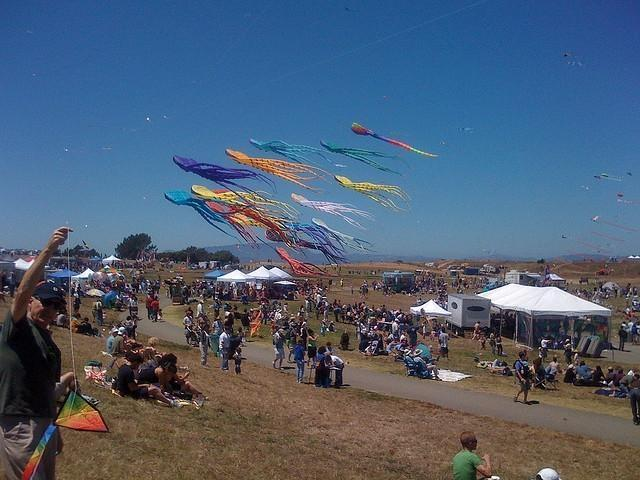truck: (444, 294, 492, 337)
